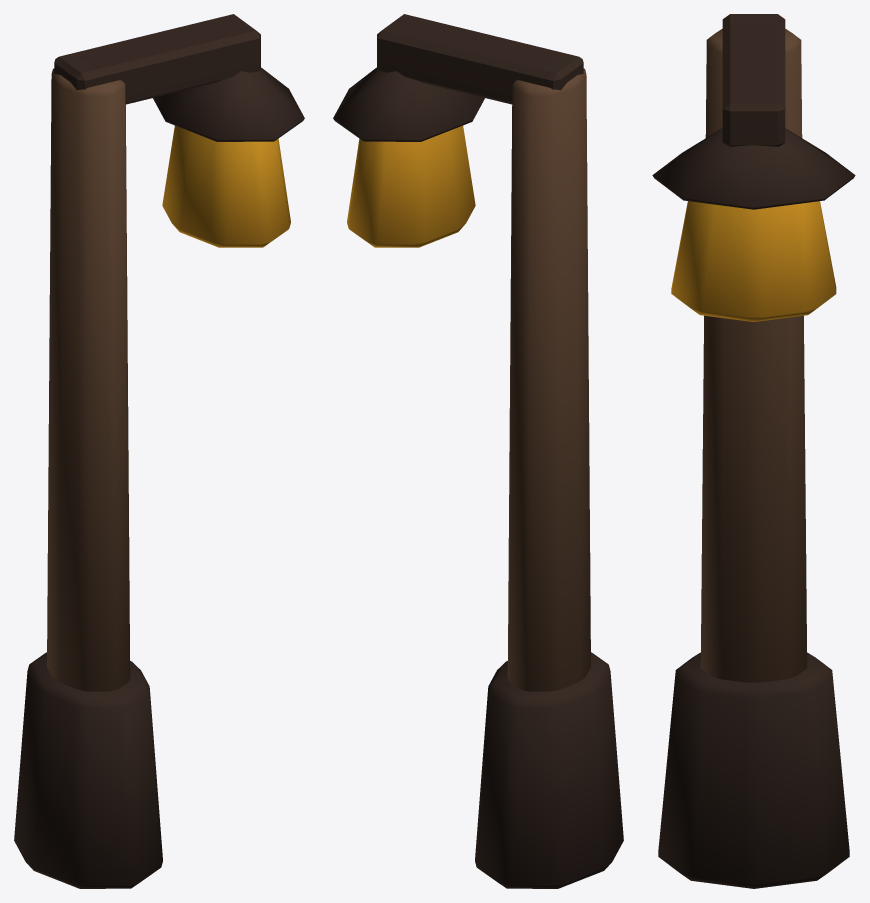
The model's file is streetlight.glb.
3 renders of one model, left to right at view 1: azimuth 30°, elevation 25°; view 2: azimuth 150°, elevation 25°; view 3: azimuth 270°, elevation 25°, orthographic. The views are drawn at different scales.
Parts seen in each view (by area): view 1: streetlight; view 2: streetlight; view 3: streetlight.
Part boxes in pixels (x1,y1,x2,y2): streetlight: [14, 14, 304, 888]; streetlight: [333, 14, 623, 888]; streetlight: [652, 14, 855, 888].
Size of the model in its own units: 0.34 by 1 by 0.22.
